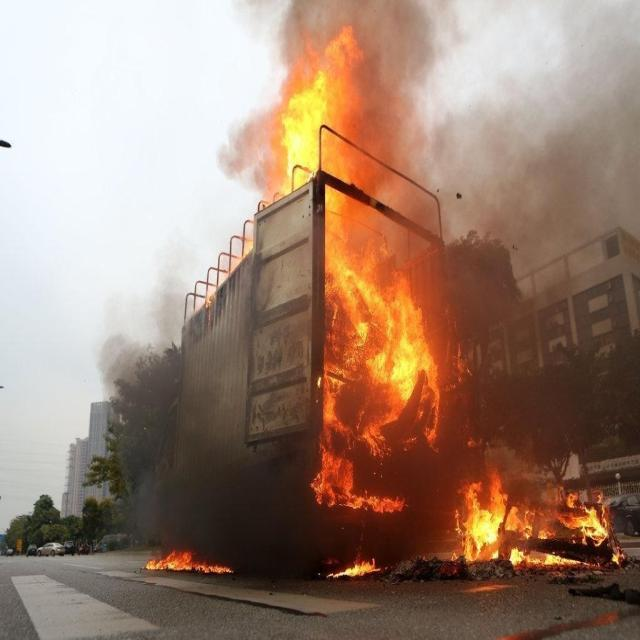Fire: (278, 22, 626, 582), (145, 546, 234, 576)
Smoke: (94, 1, 640, 552)
